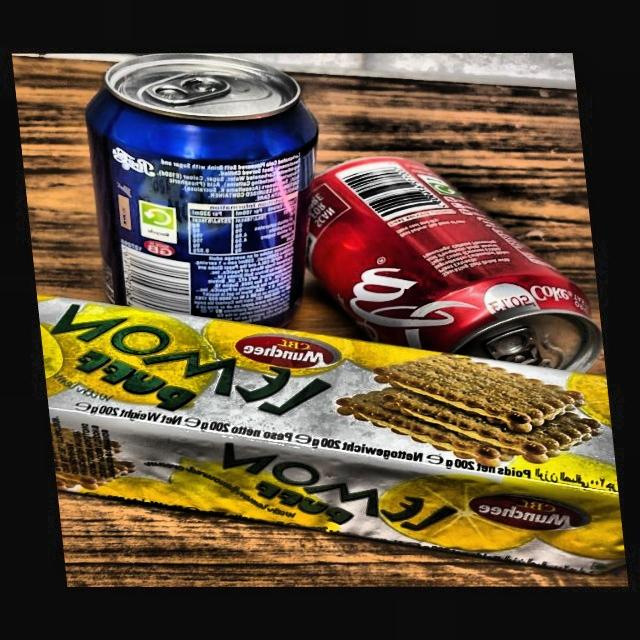coke-can: (310, 163, 596, 383)
lemon puff: (38, 289, 632, 571)
pepsi-can: (98, 62, 302, 320)
